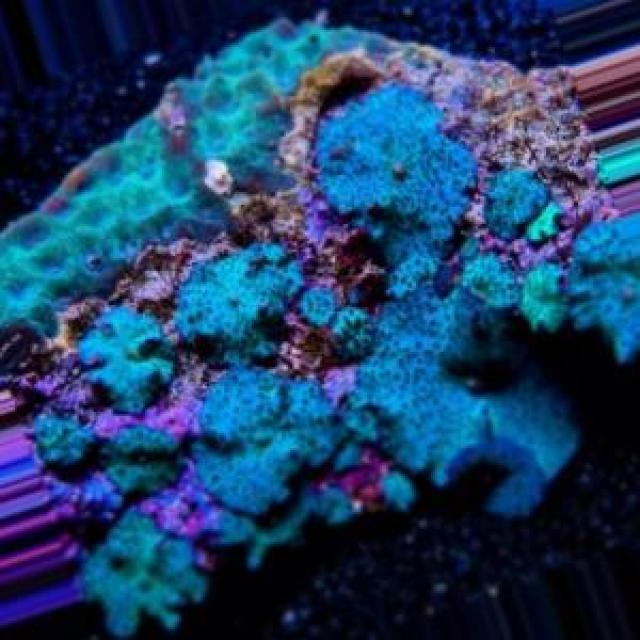healthy coral: (0, 20, 595, 636)
